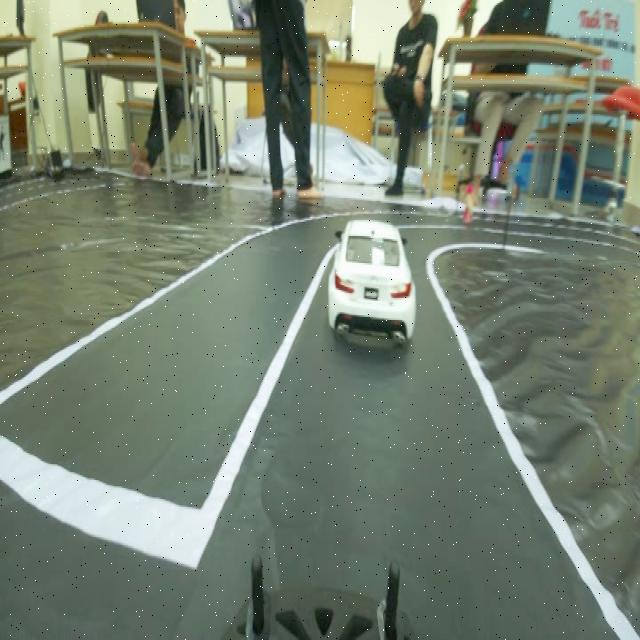car: (329, 201, 420, 353)
